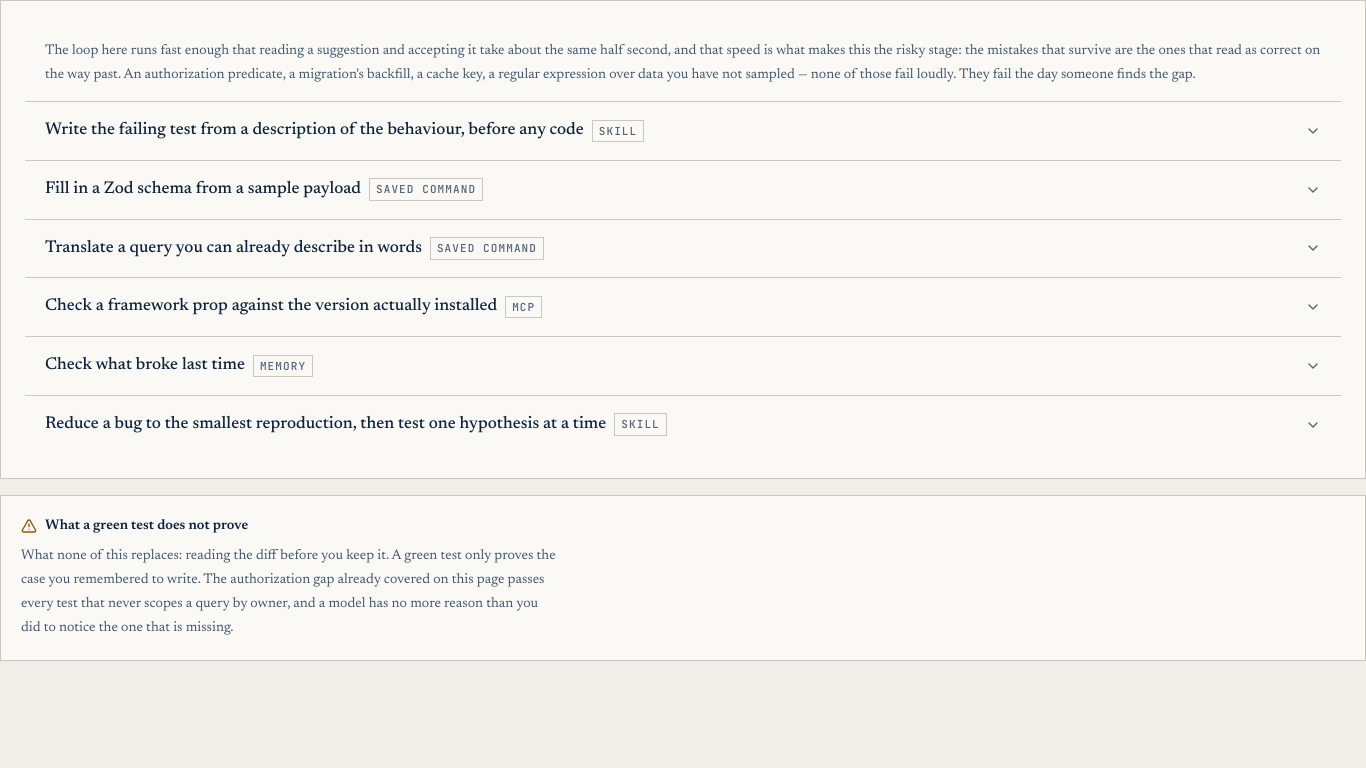
Test case: opens the mcp play and shows its body, since a RevealList body that never renders is the silent failure here
Click the button "Check a framework pr": click(271, 307) [25,278,1341,336]
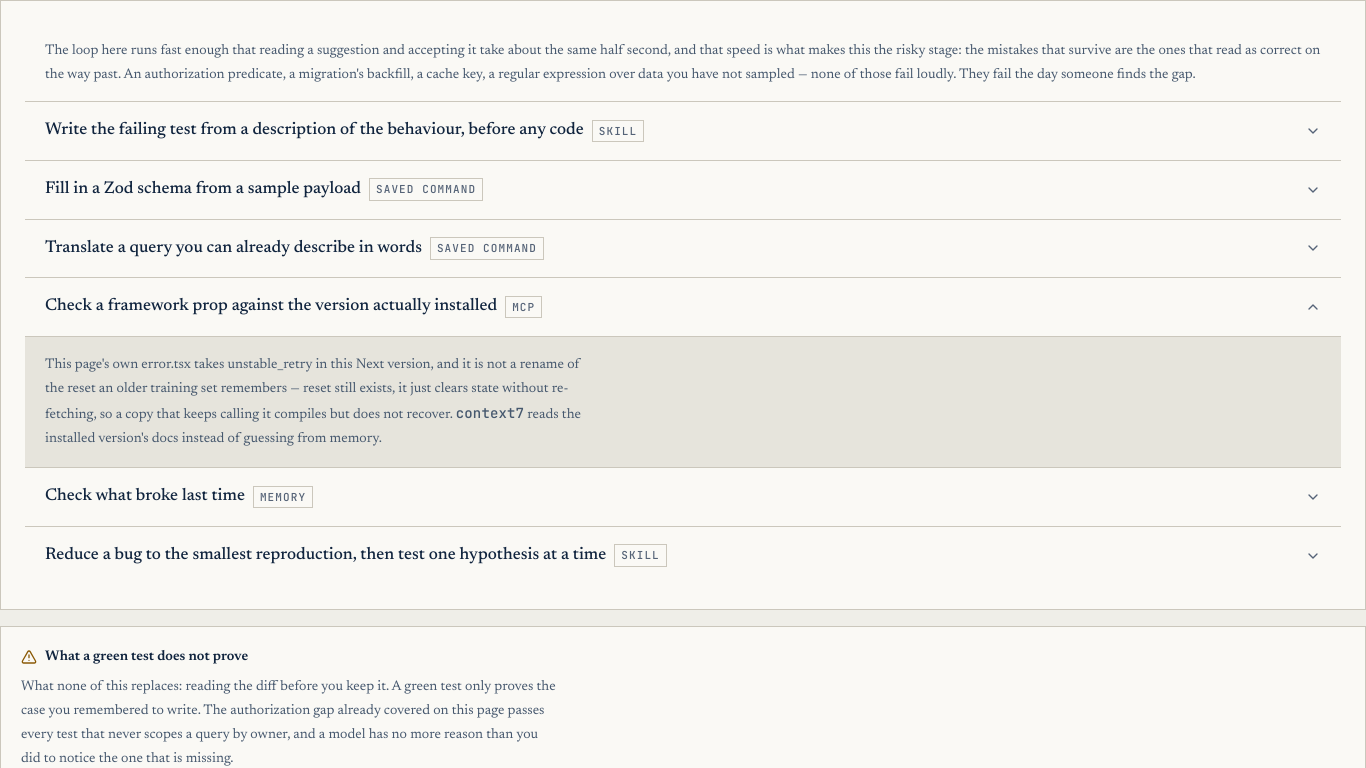
Check: the text "unstable_retry" is shown, box [45,358,580,422]
